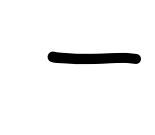minus: (47, 50, 138, 63)
